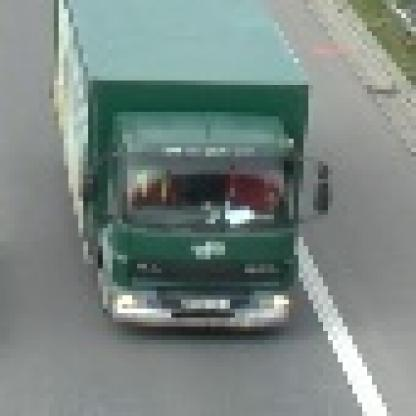truck: (45, 1, 324, 332)
